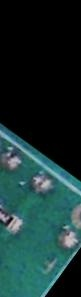chip-resistor: (0, 197, 26, 235)
